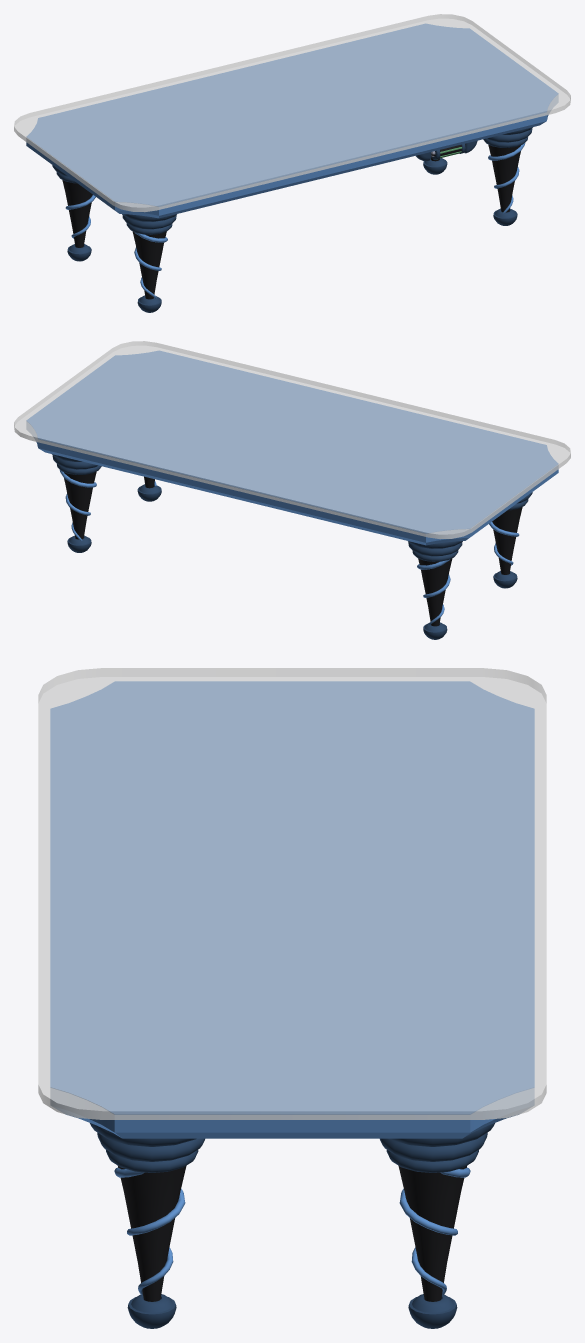
Rendered from Furn_TableFloatingBig_Blue_B.glb.
3 views of the same model, one above another, from view 1: azimuth 30°, elevation 25°; view 2: azimuth 150°, elevation 25°; view 3: azimuth 270°, elevation 25° (orthographic). The views are drawn at different scales.
Visible parts, largest first — view 1: Furn_TableFloatingBig_Blue_B.001; view 2: Furn_TableFloatingBig_Blue_B.001; view 3: Furn_TableFloatingBig_Blue_B.001.
Part boxes in pixels (box(x1,y1,x2,y2)): Furn_TableFloatingBig_Blue_B.001: box(14, 14, 570, 312); Furn_TableFloatingBig_Blue_B.001: box(14, 341, 570, 639); Furn_TableFloatingBig_Blue_B.001: box(38, 668, 546, 1328).
Bounding box in the file's own units: 1.9 × 0.5207 × 0.9209.
